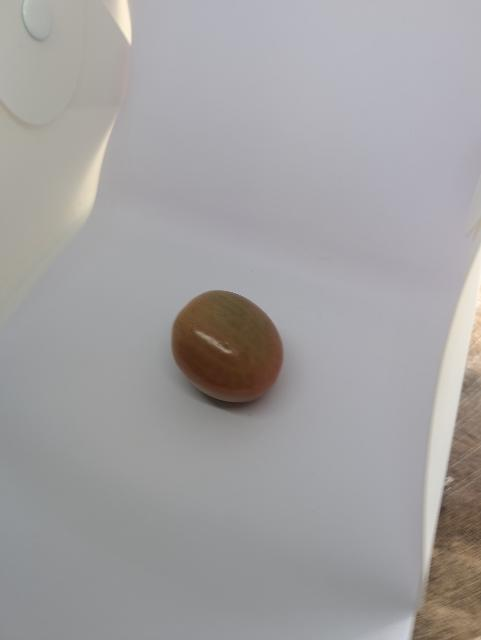turning: (169, 277, 285, 410)
